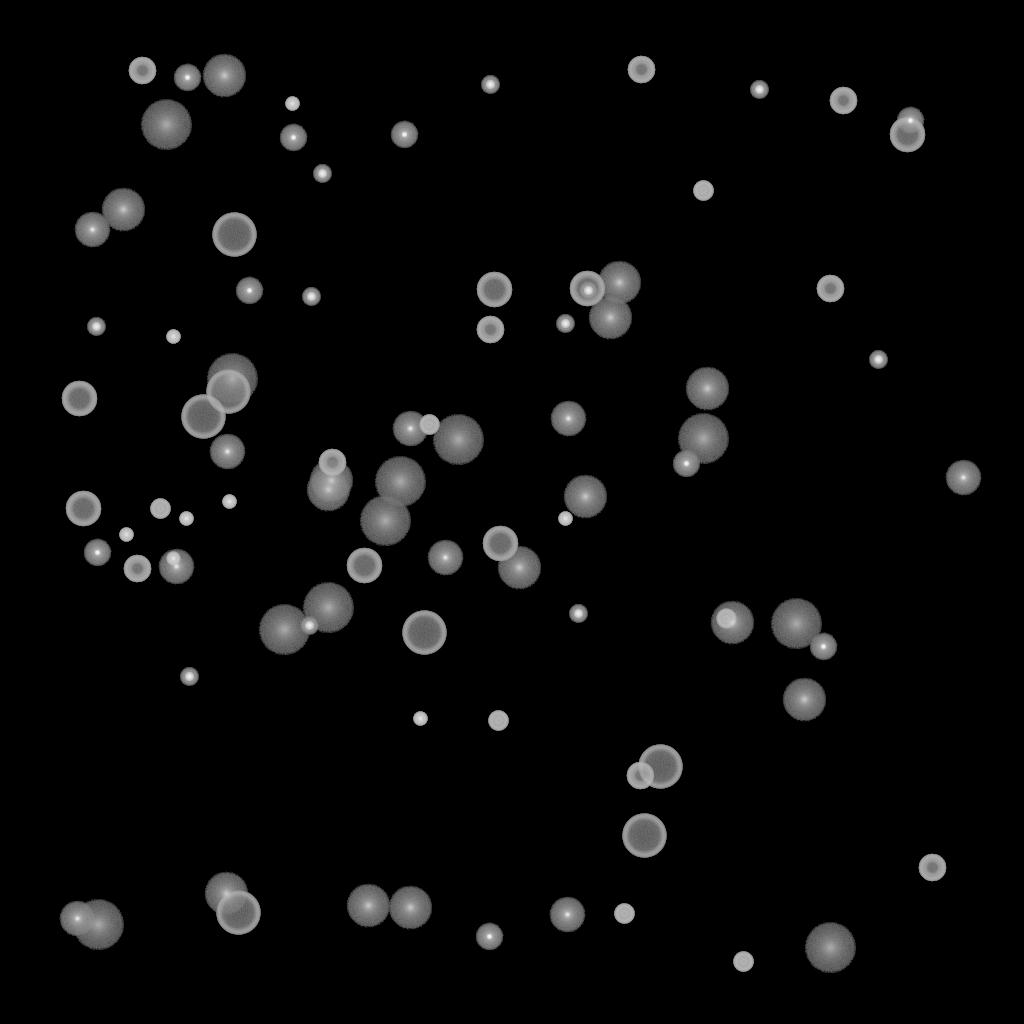depth:-10: (235, 277, 263, 305), (809, 633, 837, 661), (475, 923, 503, 951), (390, 121, 418, 149), (83, 539, 111, 567), (672, 450, 700, 478), (279, 124, 307, 152), (896, 107, 924, 135), (173, 64, 201, 92)
depth:-20: (180, 668, 198, 686), (313, 165, 331, 183), (302, 288, 320, 306), (579, 282, 597, 300), (569, 605, 587, 623), (300, 617, 318, 635), (481, 76, 499, 94), (750, 81, 768, 99), (87, 318, 105, 336), (869, 351, 887, 369), (556, 315, 574, 333)
depth:-30: (285, 97, 299, 111), (222, 495, 236, 509), (119, 528, 133, 542), (166, 330, 180, 344), (166, 552, 180, 566), (179, 512, 193, 526), (558, 512, 572, 526), (413, 712, 427, 726)
depth:-40: (419, 415, 439, 435), (150, 499, 170, 519), (716, 609, 736, 629), (614, 904, 634, 924), (488, 711, 508, 731), (693, 181, 713, 201), (733, 952, 753, 972)
depth:-50: (476, 316, 504, 344), (318, 449, 346, 477), (918, 854, 946, 882), (627, 56, 655, 84), (128, 57, 156, 85), (626, 762, 654, 790), (123, 555, 151, 583), (816, 275, 844, 303), (829, 87, 857, 115)
depth:-60: (65, 491, 101, 527), (346, 548, 382, 584), (569, 271, 605, 307), (482, 526, 518, 562), (61, 381, 97, 417), (889, 117, 925, 153), (476, 272, 512, 308)
depth:-70: (181, 395, 225, 439), (216, 891, 260, 935), (212, 213, 256, 257), (638, 745, 682, 789), (402, 611, 446, 655), (206, 370, 250, 414), (622, 814, 666, 858)
depth:0: (158, 549, 194, 585), (945, 460, 981, 496), (209, 434, 245, 470), (392, 411, 428, 447), (550, 401, 586, 437), (549, 897, 585, 933), (74, 212, 110, 248), (427, 540, 463, 576), (59, 901, 95, 937)
depth:10: (588, 296, 632, 340), (346, 884, 390, 928), (204, 872, 248, 916), (202, 54, 246, 98), (306, 468, 350, 512), (710, 601, 754, 645), (101, 188, 145, 232), (388, 886, 432, 930), (597, 261, 641, 305), (782, 678, 826, 722), (685, 367, 729, 411), (497, 546, 541, 590), (309, 459, 353, 503), (563, 475, 607, 519)
depth:20: (302, 583, 354, 633), (206, 354, 258, 404), (677, 414, 729, 464), (359, 496, 411, 546), (770, 599, 822, 649), (804, 923, 856, 973), (374, 457, 426, 507), (72, 900, 124, 950), (140, 100, 192, 150), (432, 415, 484, 465), (258, 605, 310, 655)
